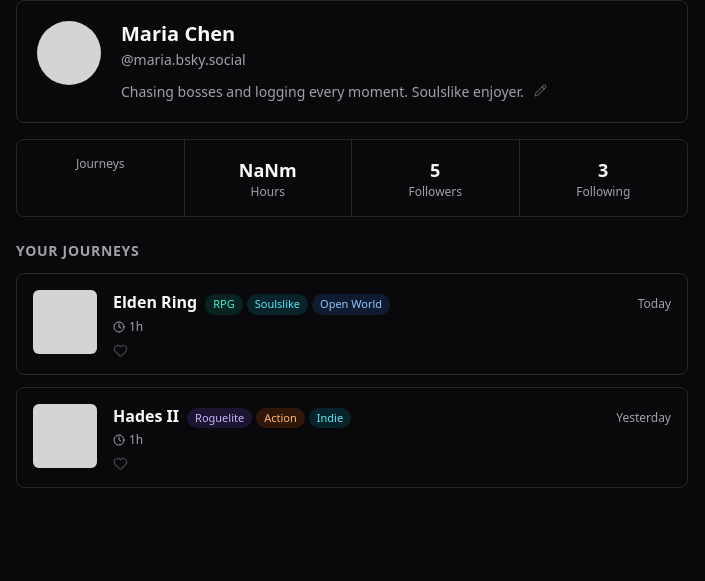
Hero — bio › canceling bio edit restores the original bio
Click the button named "Edit bio" at {"x": 540, "y": 90}, box [532,82,549,99]
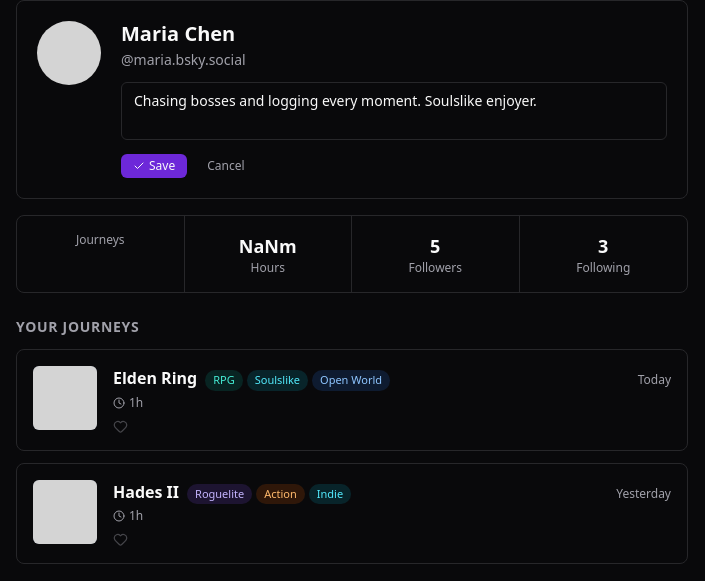
Replace the text in the text box named "Bio" with "Changed text" at {"x": 394, "y": 111}, box [121,82,667,140]
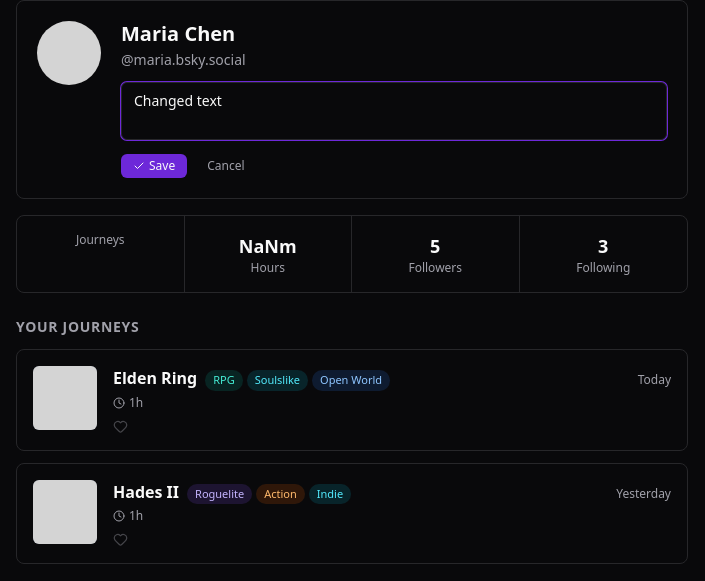
Click the button "Cancel" at {"x": 226, "y": 166}, box [195,154,257,178]
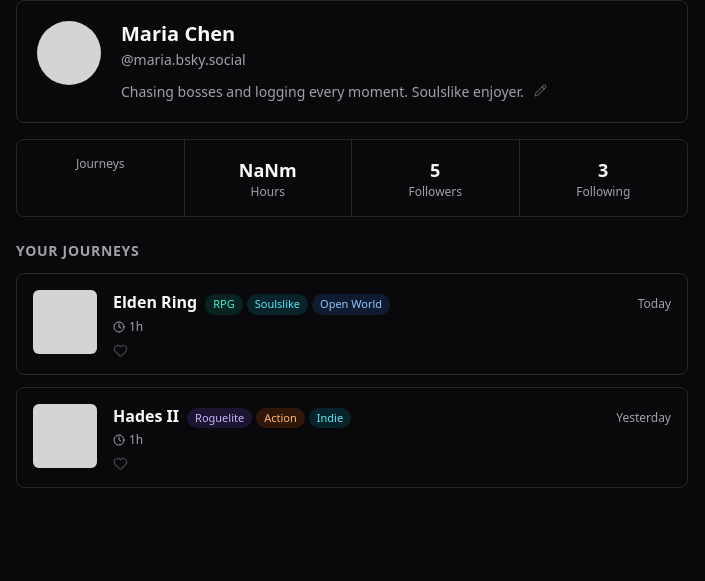
Check: the text "Chasing bosses and logging every moment. Soulslike enjoyer." is shown, box [121,82,524,102]
Check: the text box labelled "Bio" is gone
